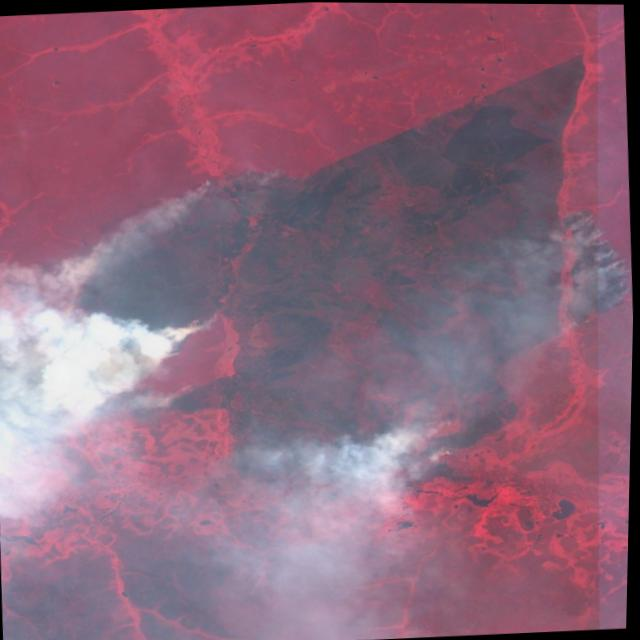fire: (46, 171, 294, 414), (557, 203, 637, 332), (355, 414, 477, 484)
